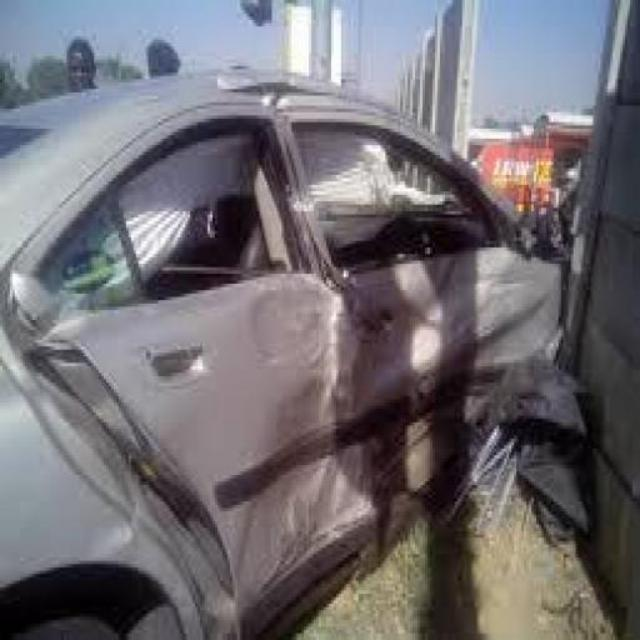crash: (8, 68, 568, 629)
